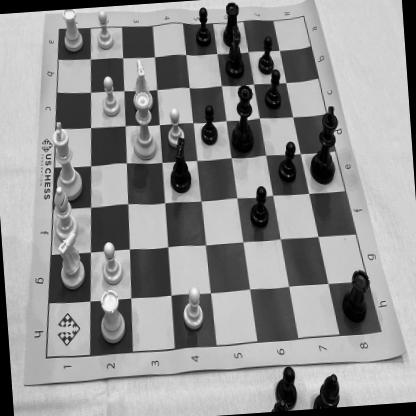bishop: (45, 183, 80, 242)
king: (306, 103, 344, 188), (46, 119, 84, 202)
knight: (52, 231, 89, 293), (162, 136, 195, 196), (128, 56, 157, 114), (223, 24, 247, 82)
pawn: (177, 283, 206, 334), (98, 237, 126, 289), (275, 137, 300, 185), (196, 102, 222, 148), (98, 72, 122, 119), (246, 184, 270, 230), (162, 103, 186, 149), (262, 66, 284, 112), (94, 7, 116, 52), (192, 5, 214, 48), (255, 33, 276, 77)
queen: (225, 81, 259, 156), (126, 91, 160, 164)
rook: (339, 266, 374, 326), (96, 288, 129, 347), (218, 0, 245, 53), (58, 8, 86, 56)
